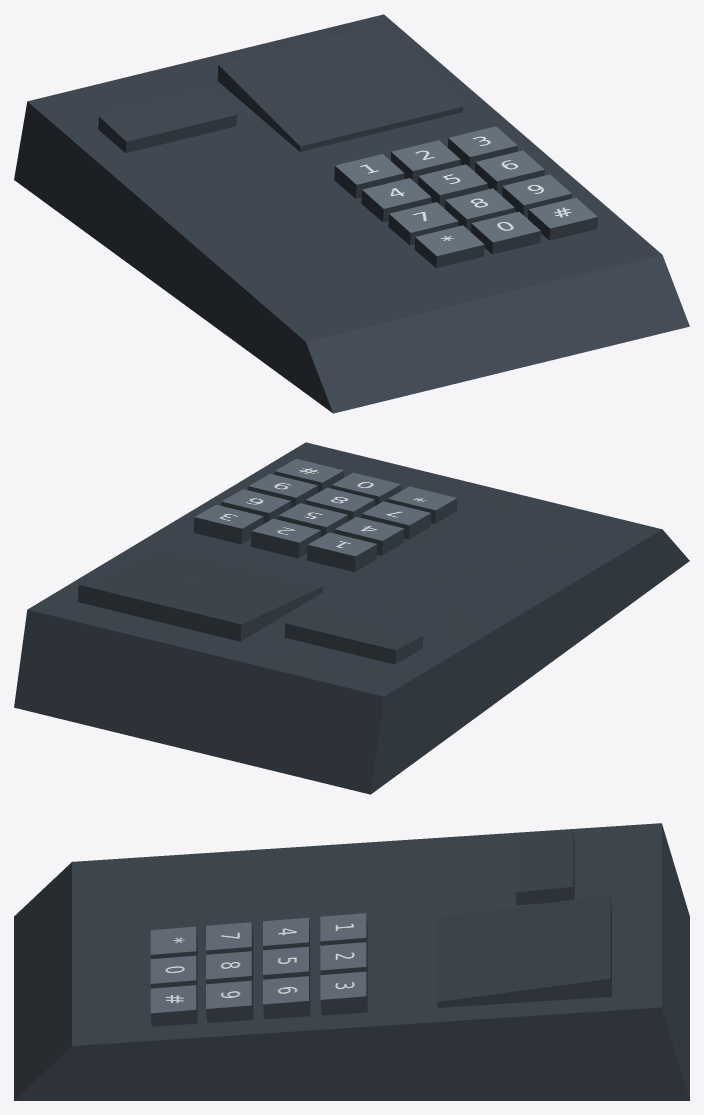
File: 05_phone_a_base.glb
The picture shows the model from 3 angles, top to bottom: view 1: azimuth 30°, elevation 25°; view 2: azimuth 150°, elevation 25°; view 3: azimuth 270°, elevation 25°; orthographic projection. The views are drawn at different scales.
Visible parts, largest first — view 1: Phone_A Base; view 2: Phone_A Base; view 3: Phone_A Base.
Boxes of the visible parts, bbox=[...] form: Phone_A Base: bbox=[14, 14, 689, 413]; Phone_A Base: bbox=[14, 442, 689, 794]; Phone_A Base: bbox=[14, 823, 689, 1100].
Bounding box in the file's own units: 0.2047 × 0.056 × 0.3175.
Materials: 2 (2 with a texture image).
